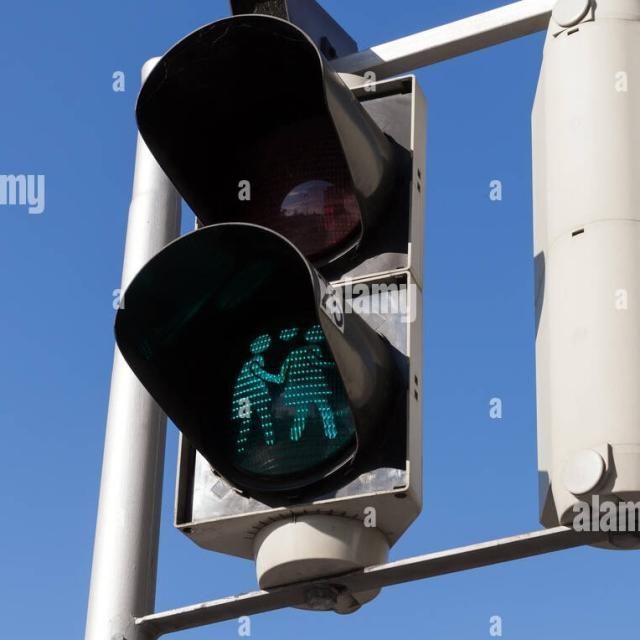geen-crossing: (211, 312, 356, 448)
